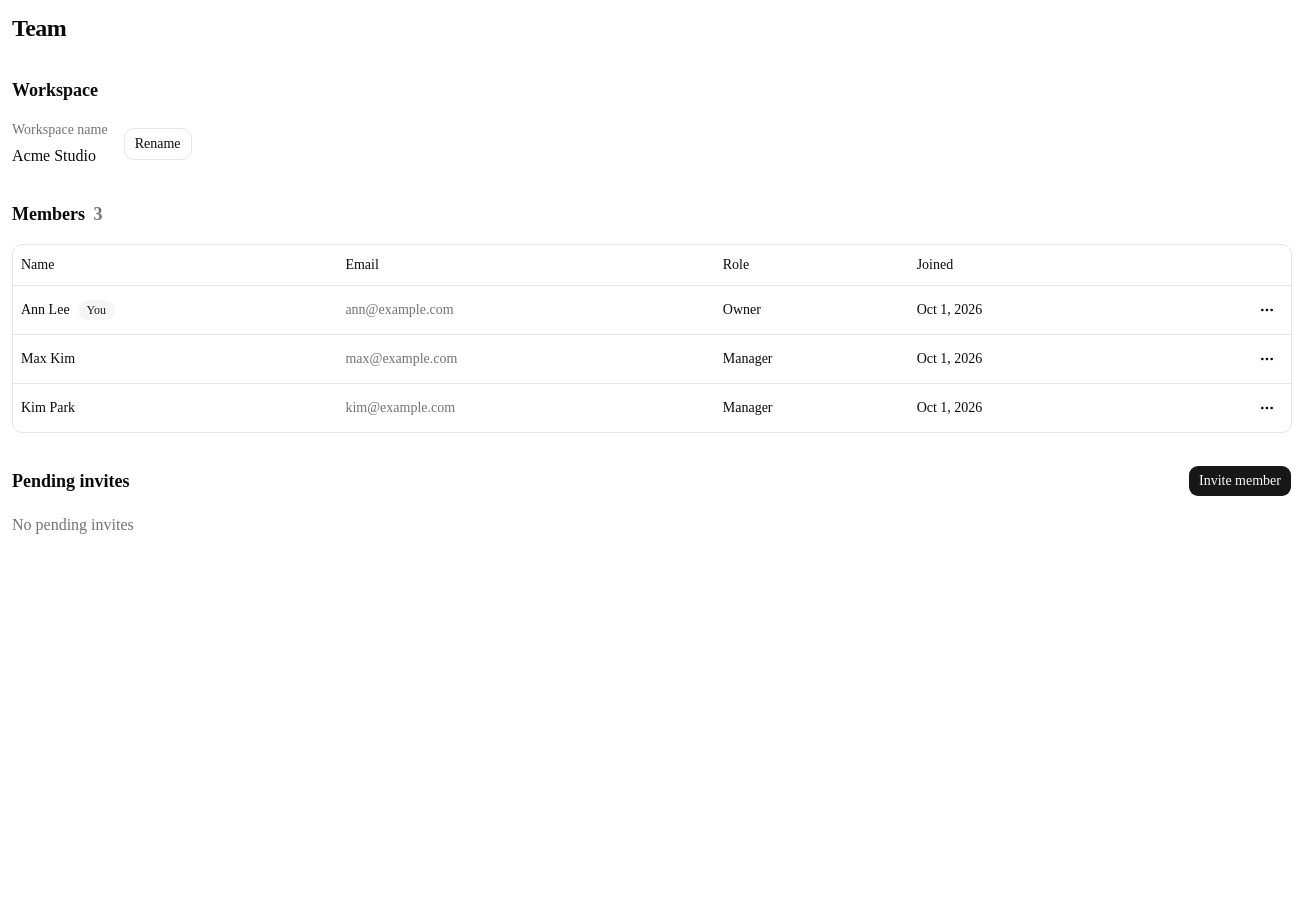
Test case: TeamView › roles › should toast when the role change answers 409 LAST_OWNER
The width and height of the screenshot is (1304, 912).
Click the button named "Actions for Max Kim" at (1267, 358), box top-left (1251, 342), bottom-right (1283, 374)
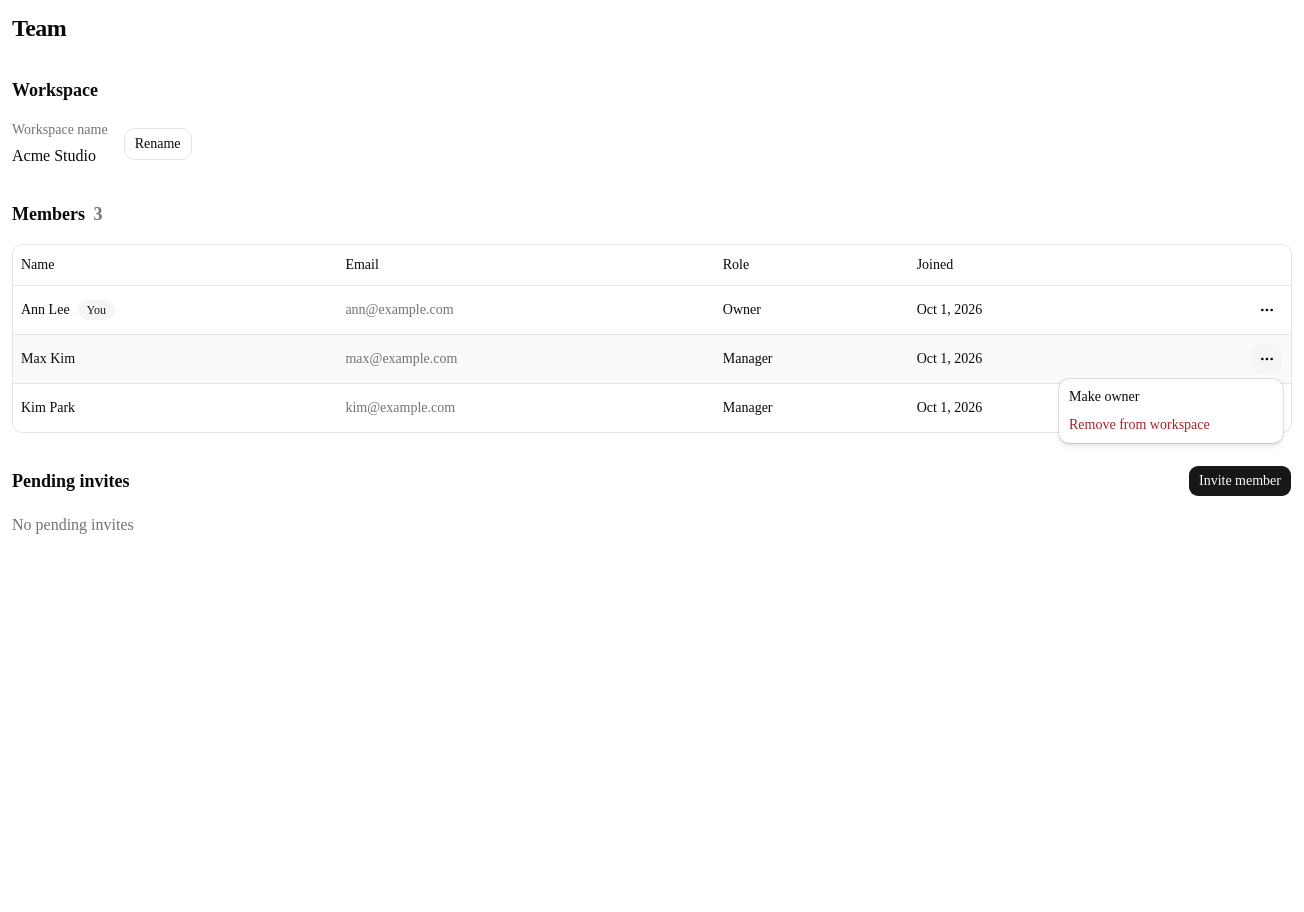
Click the menu item "Make owner" at (1104, 396), box top-left (1069, 389), bottom-right (1139, 404)
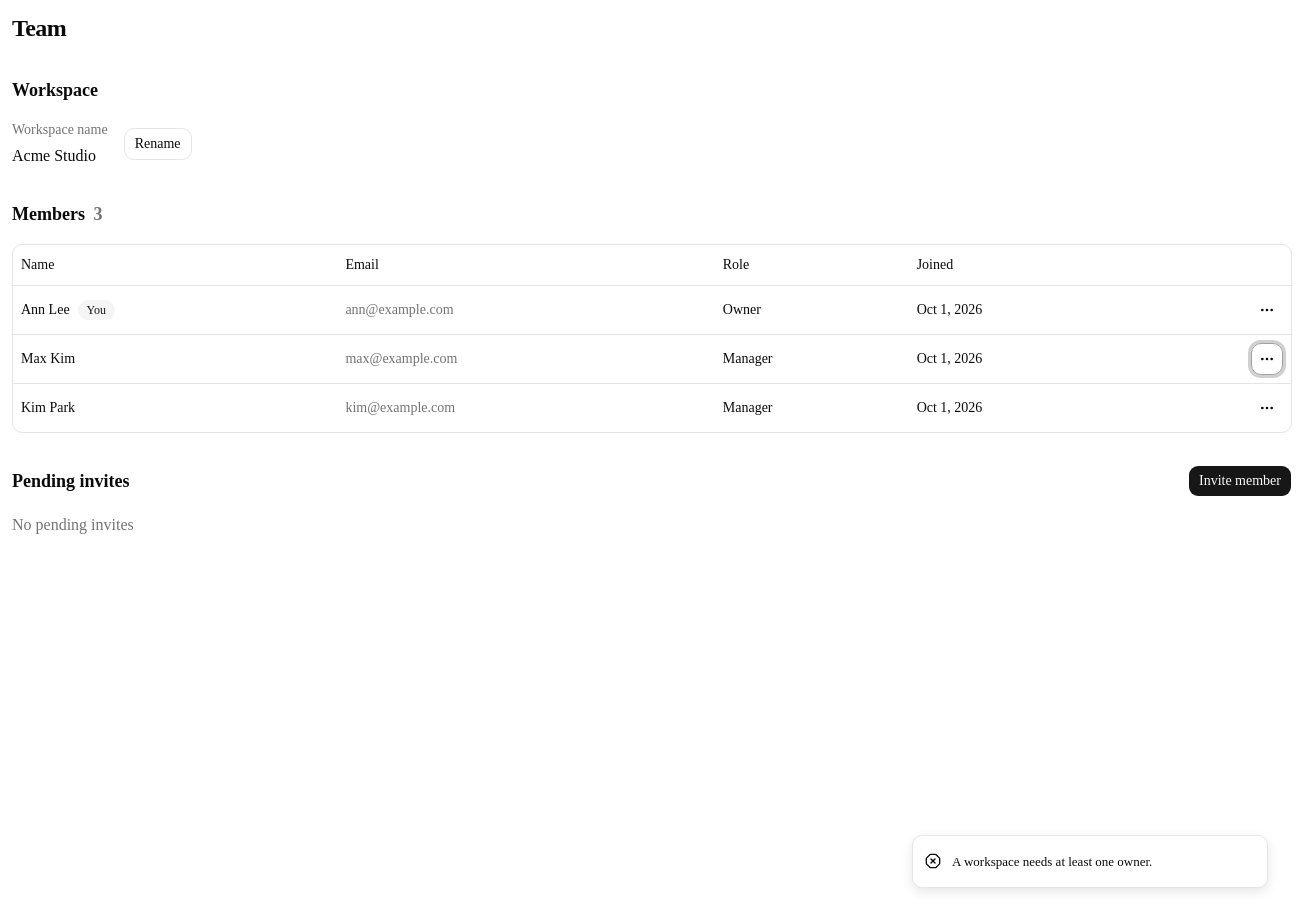
Now the text "A workspace needs at least one owner." is shown, box top-left (952, 852), bottom-right (1152, 871)
